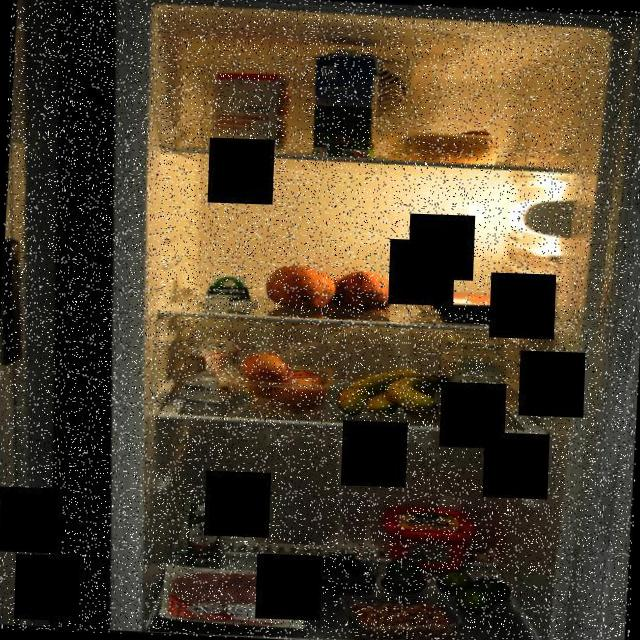Carne cerdo: (156, 560, 308, 630)
Carne vacuno: (400, 286, 548, 328)
Cebolla: (238, 348, 337, 417)
Gambas/Langostinos: (346, 598, 453, 640)
Leche: (302, 42, 378, 167)
Mantequilla: (378, 504, 478, 570)
Patata: (398, 122, 504, 168)
Plátano: (336, 366, 462, 424)
